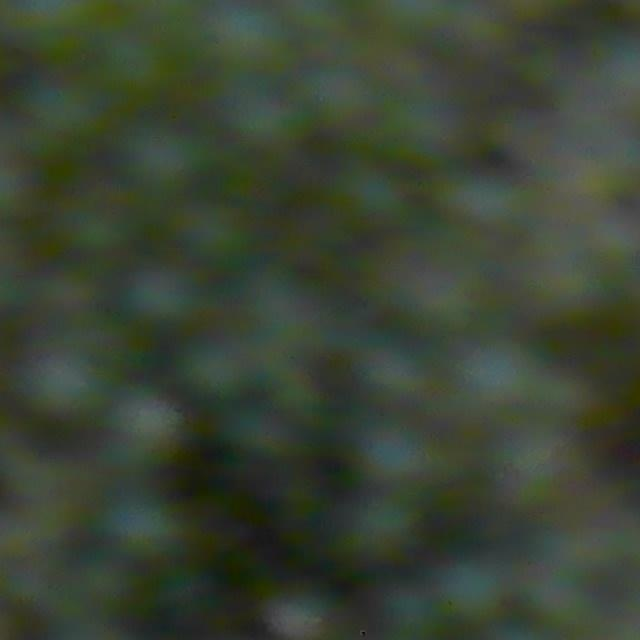SeaGrape: (459, 337, 541, 414), (122, 118, 205, 194), (105, 386, 185, 464), (22, 346, 105, 421), (101, 490, 181, 561), (359, 416, 434, 488), (345, 491, 419, 563), (125, 260, 201, 329), (438, 553, 509, 623), (180, 333, 255, 399)
